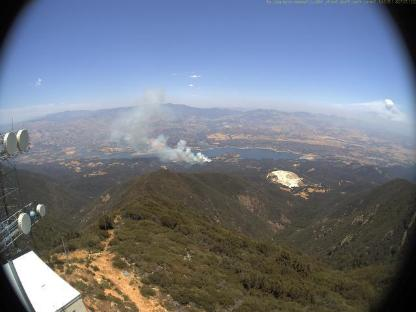smoke: (108, 88, 214, 170)
